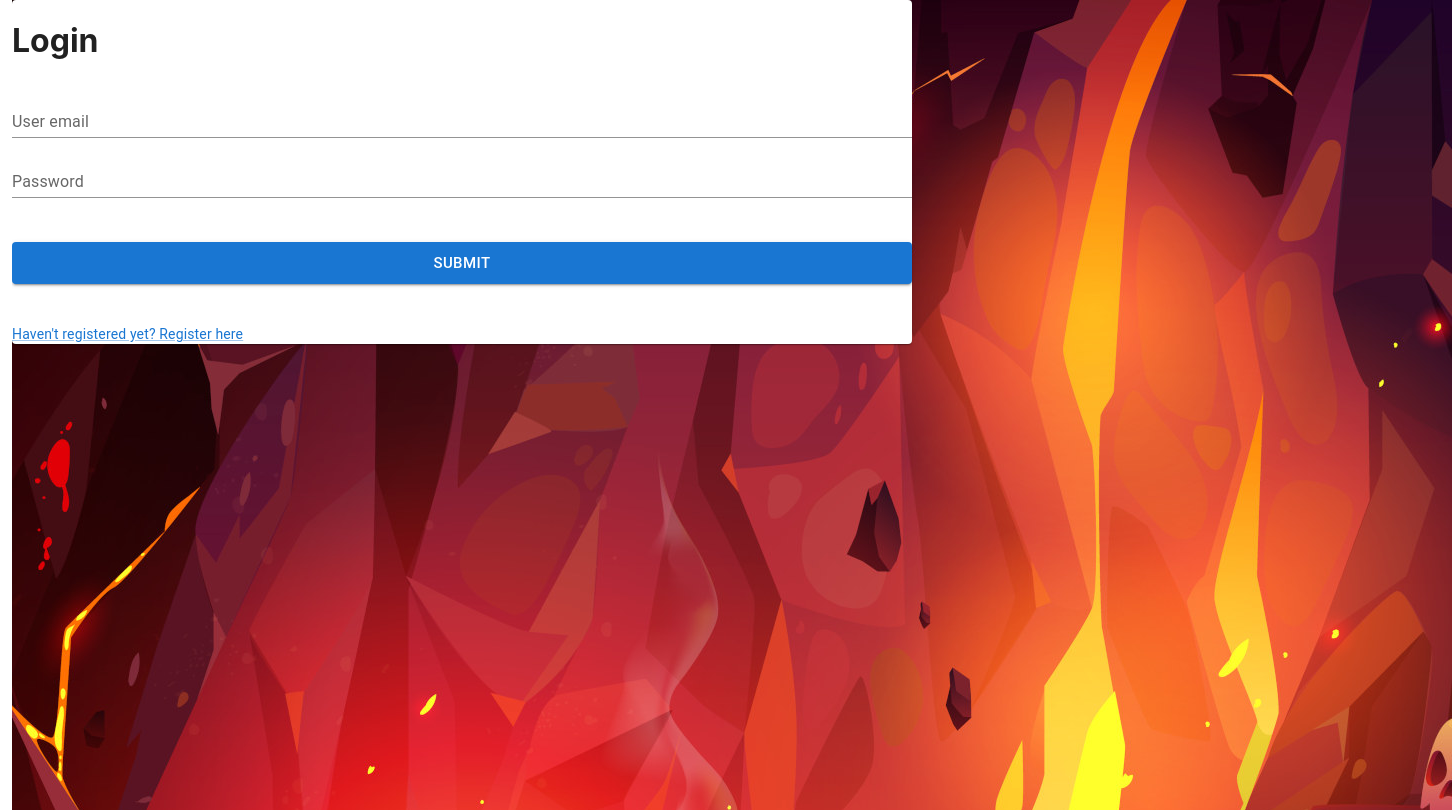
Test case: Login › uses a friendly message for invalid login credentials
In the field labelled "User email": x=462, y=122 [12, 106, 912, 138], type "player@example.com"
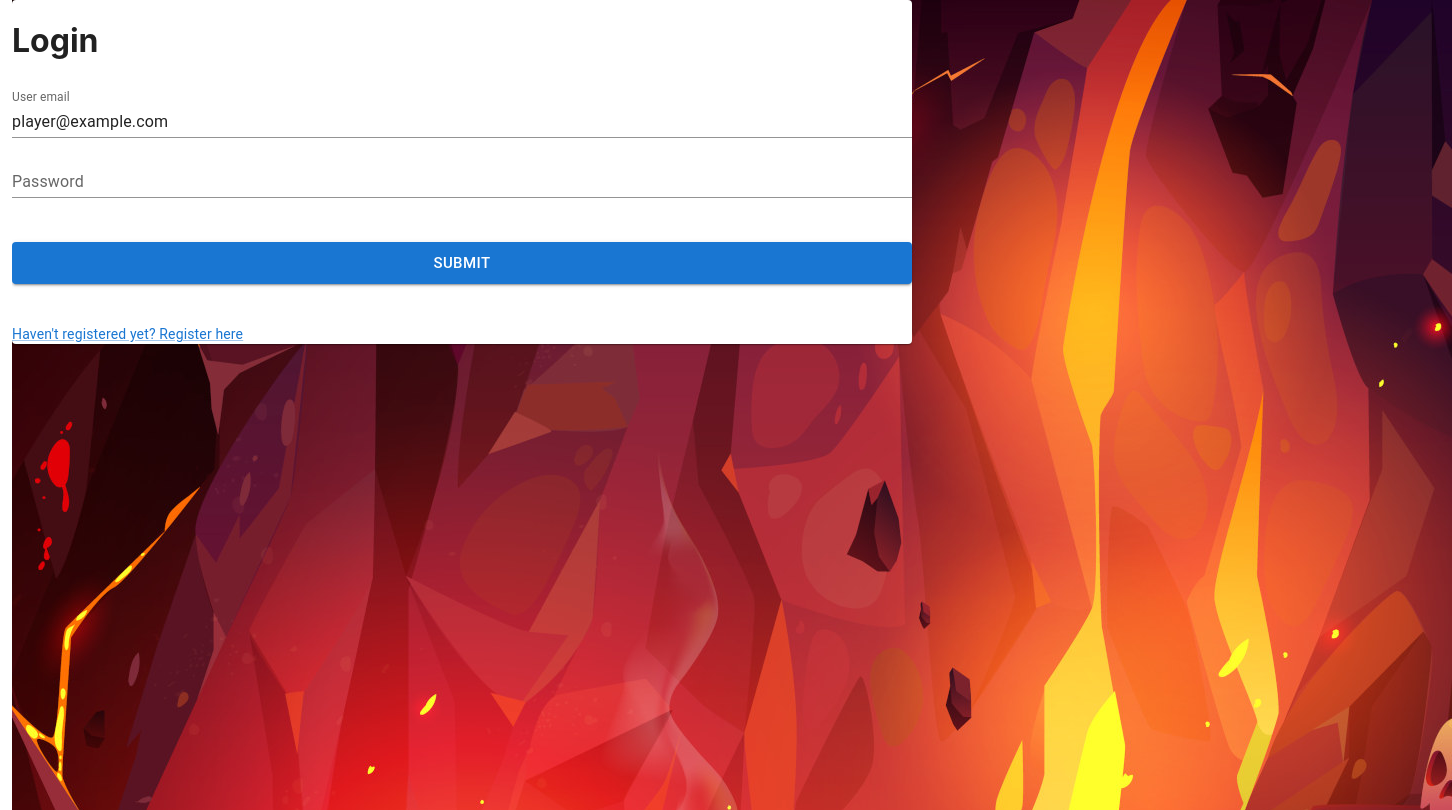
In the password field labelled "Password": x=462, y=182 [12, 166, 912, 198], type "safe-password"
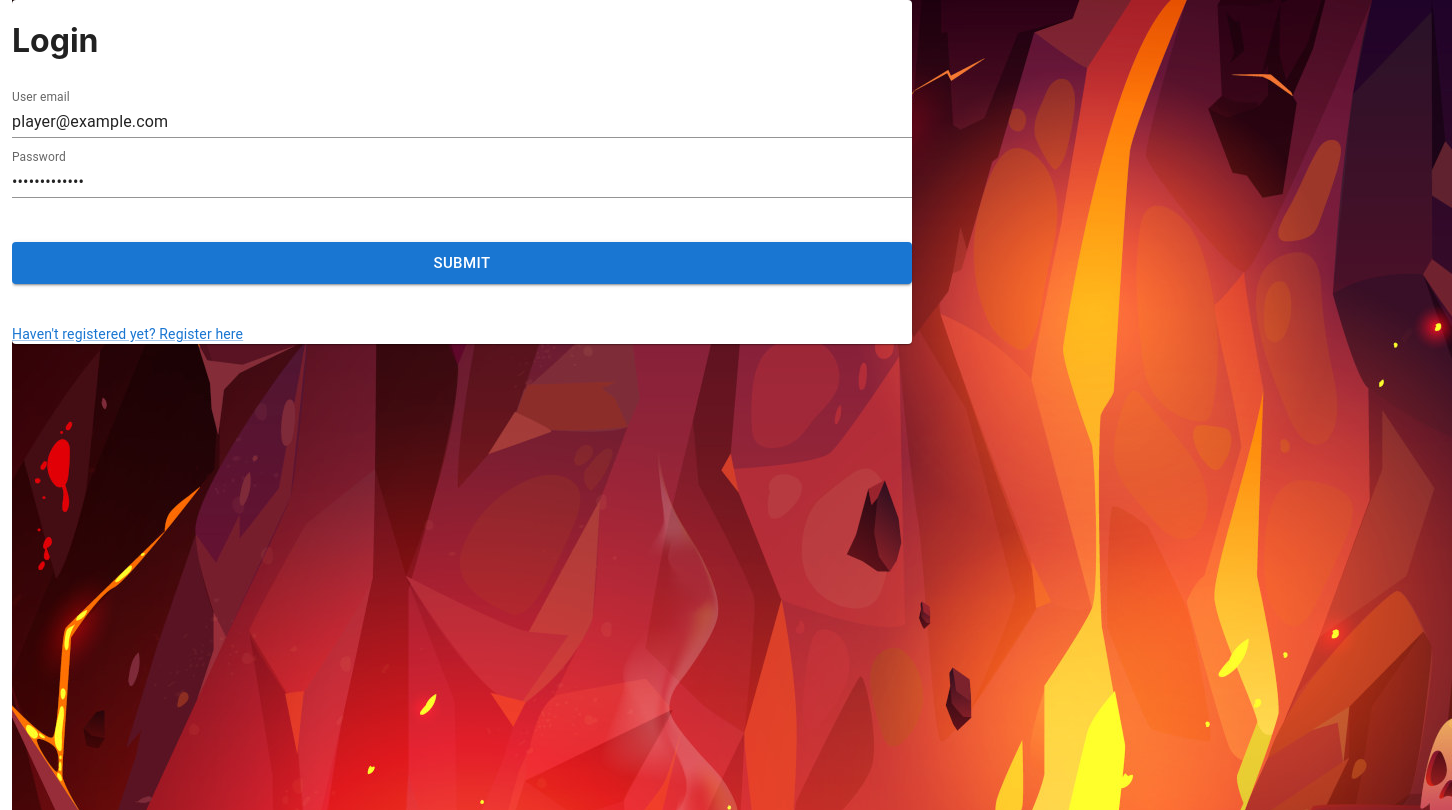
Click the button "Submit": x=462, y=263 [12, 242, 912, 284]
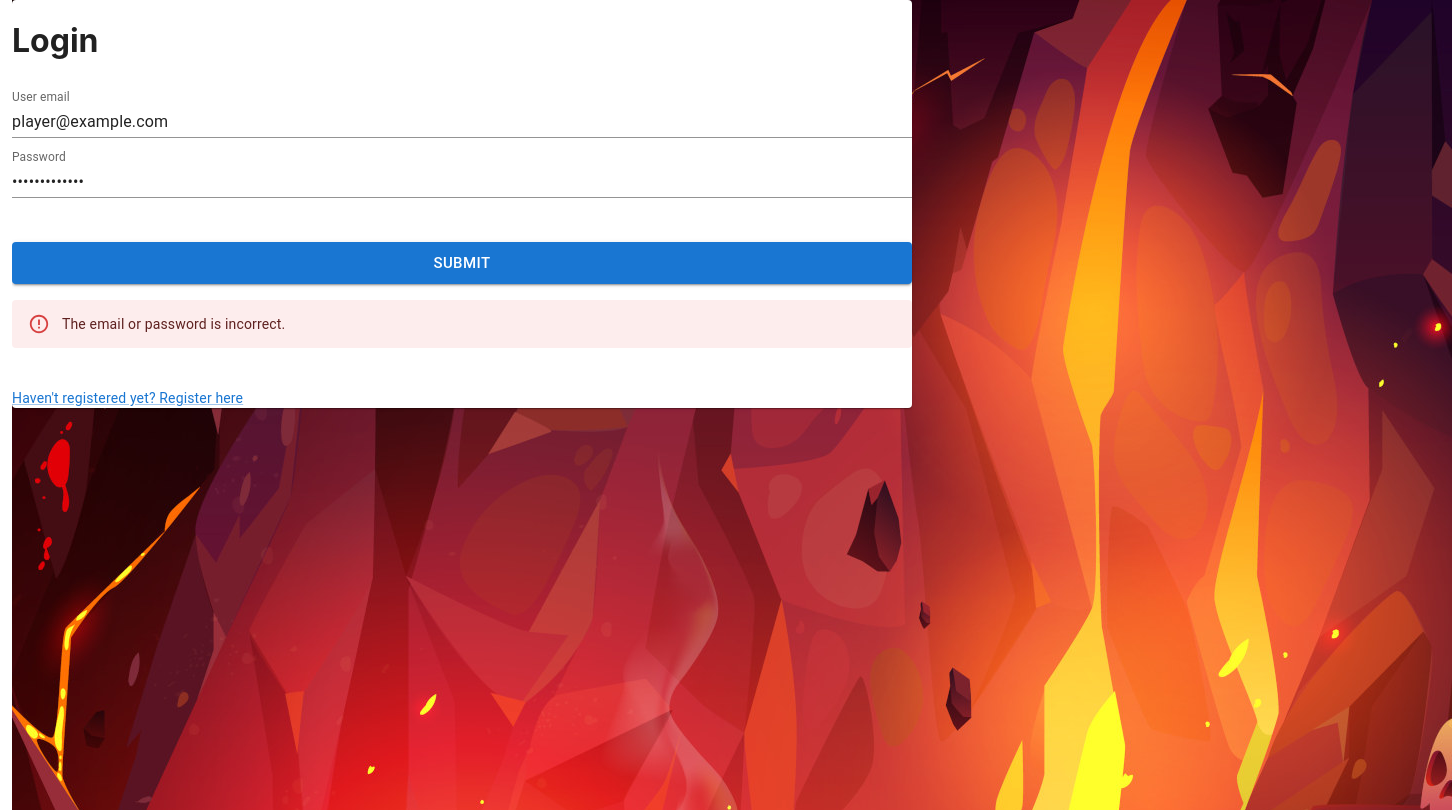
Result: the text "The email or password is incorrect." is shown at [62, 316, 285, 332]
